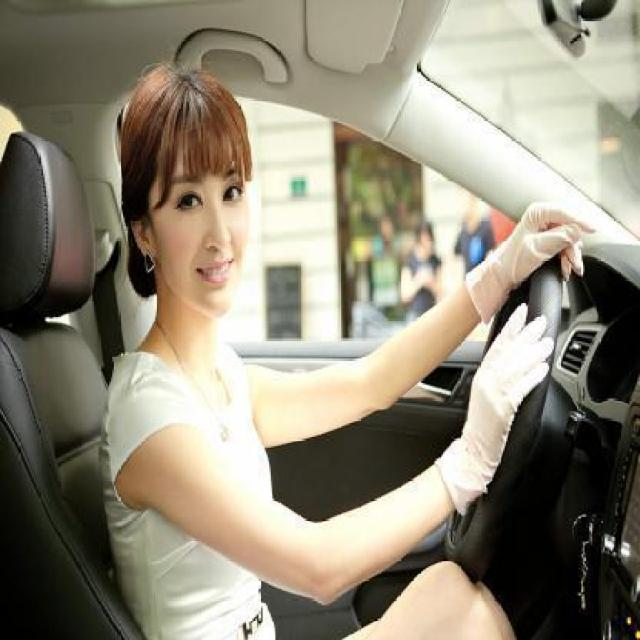face_nomask: (158, 161, 255, 314)
hand_glove: (466, 300, 556, 477), (486, 202, 600, 290)
head_nohelmet: (106, 60, 257, 175)
person: (79, 55, 582, 640)
